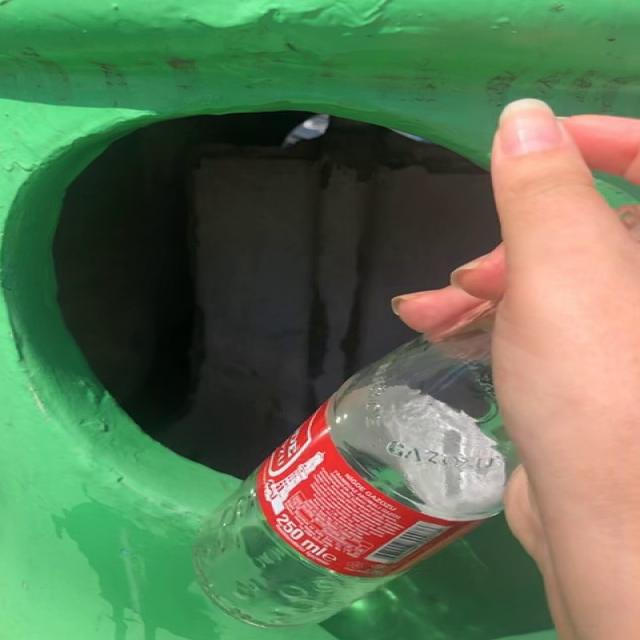glass: (195, 333, 515, 626)
